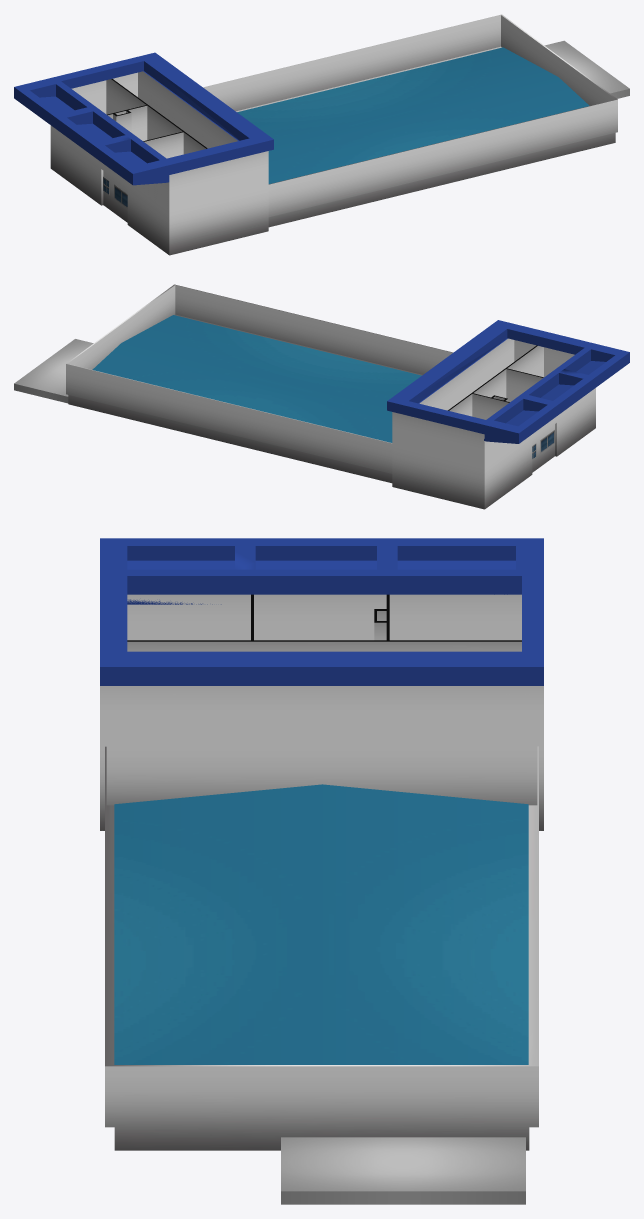
Rendered from soubrain_T1-15-4F.glb.
The picture shows the model from 3 angles, top to bottom: view 1: azimuth 30°, elevation 25°; view 2: azimuth 150°, elevation 25°; view 3: azimuth 270°, elevation 25°; orthographic projection. The views are drawn at different scales.
Parts seen in each view (by area): view 1: Box1910, Line024, Box1912, Box1913; view 2: Box1910, Line024, Box1912, Box1913; view 3: Box1910, Line024, Box1913, Box1912.
Part boxes in pixels (bbox=[...]): Box1910: bbox=[14, 14, 617, 255]; Line024: bbox=[237, 47, 589, 183]; Box1912: bbox=[106, 79, 207, 158]; Box1913: bbox=[544, 40, 629, 98]; Box1910: bbox=[66, 284, 629, 509]; Line024: bbox=[92, 315, 421, 442]; Box1912: bbox=[448, 345, 543, 419]; Box1913: bbox=[14, 339, 93, 403]; Box1910: bbox=[100, 538, 543, 1150]; Line024: bbox=[114, 784, 528, 1064]; Box1913: bbox=[281, 1137, 525, 1204]; Box1912: bbox=[127, 594, 521, 651].
Bounding box in the file's own units: 39.79 × 6.3 × 15.02.
9 materials, 7 textured.
